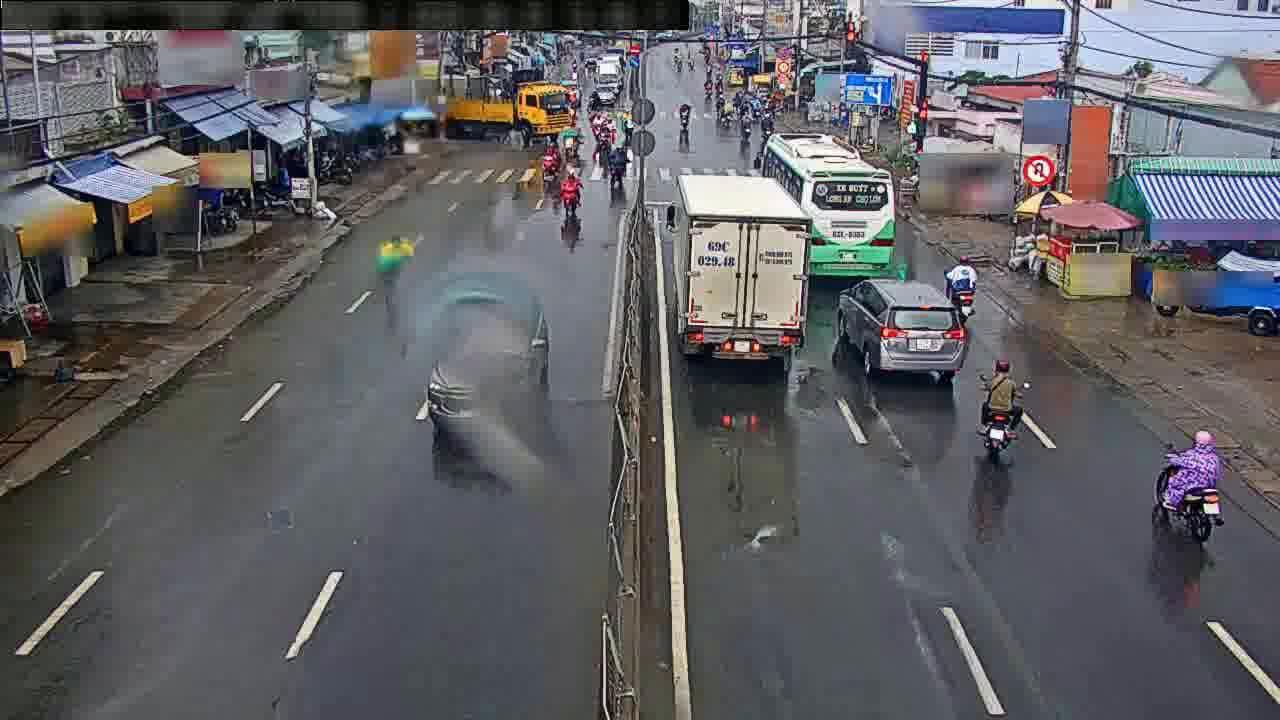14: (765, 135, 899, 277)
8: (676, 172, 797, 359)
container: (417, 290, 546, 433), (829, 274, 966, 382)
motorbike: (1152, 420, 1227, 544), (975, 357, 1024, 447), (947, 251, 992, 336), (375, 233, 417, 319), (556, 172, 585, 217), (607, 141, 626, 198), (538, 133, 561, 179), (676, 99, 692, 132), (760, 110, 774, 140), (742, 112, 749, 136)
